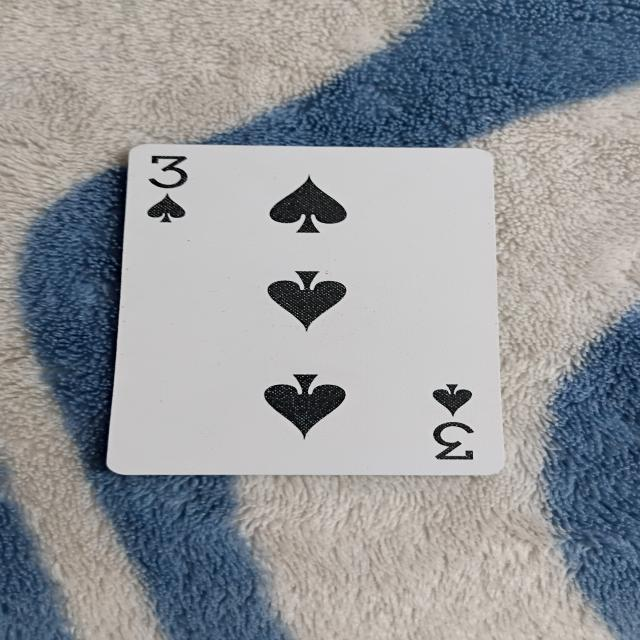3S: (119, 137, 510, 478)
